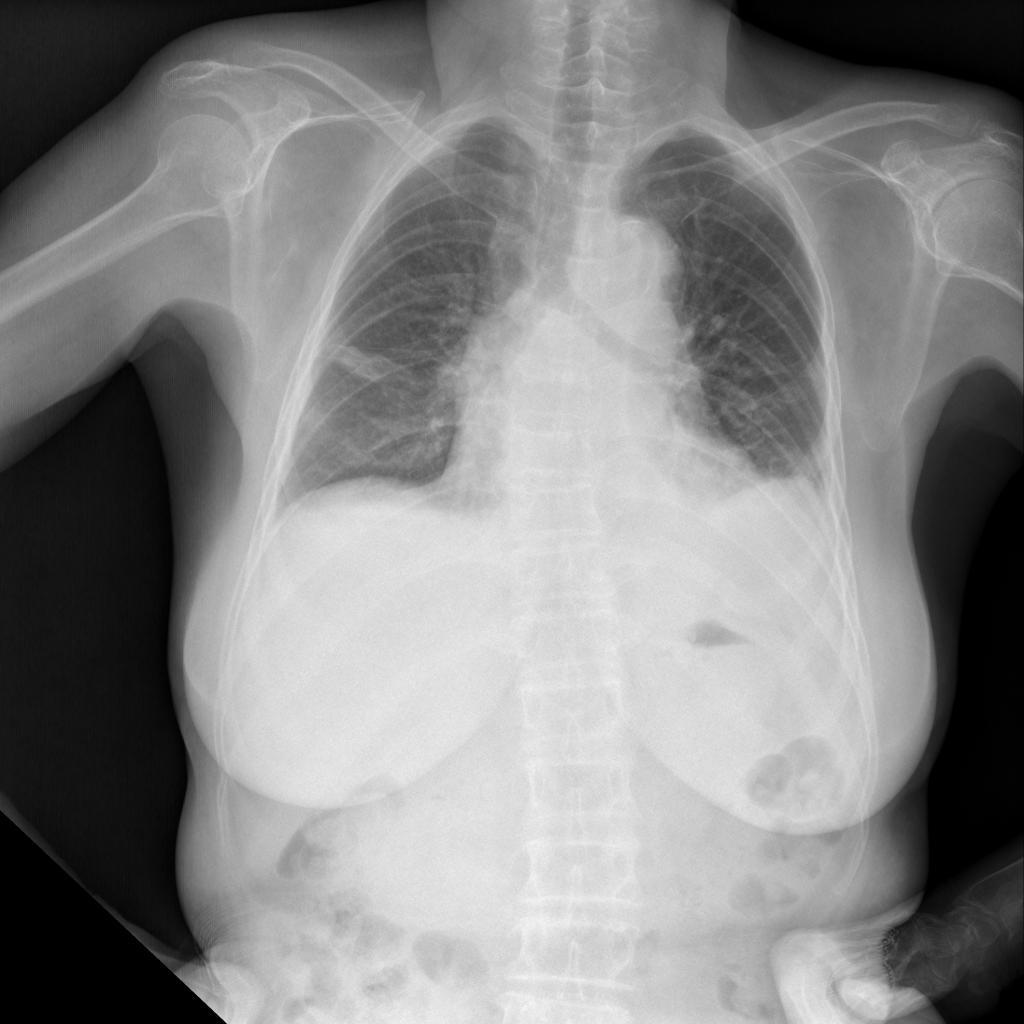Nodule: (708, 459, 840, 598)
